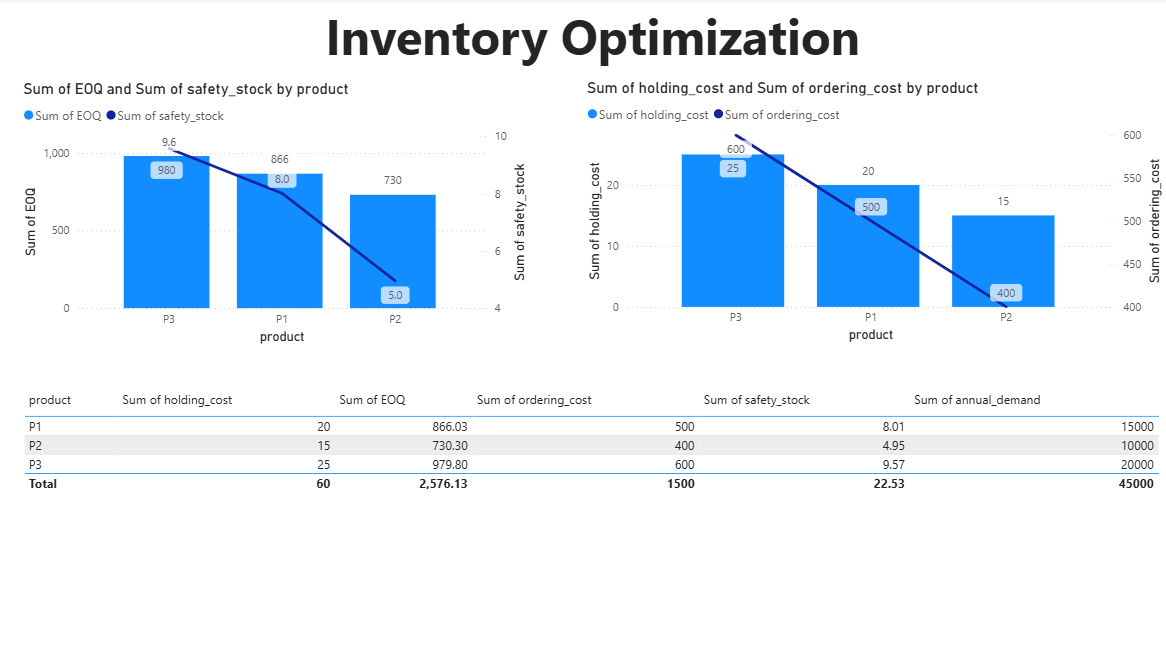

The dashboard page shown, as its layout file describes it:
{"tool":"powerbi","page":{"name":"Page 2","canvas":[1280,720],"ordinal":1},"visuals":[{"type":"textbox","box":[20.6,0,1259.7,87.8],"z":0},{"type":"lineClusteredColumnComboChart","fields":{"Category":["Data (2).product"],"Y":["Sum(Data (7).EOQ)"],"Y2":["Sum(Data (8).safety_stock)"]},"box":[20.6,89.2,562.6,295],"z":1000},{"type":"lineClusteredColumnComboChart","fields":{"Category":["Data (7).product"],"Y":["Sum(Data (7).holding_cost)"],"Y2":["Sum(Data (7).ordering_cost)"]},"box":[639.5,87.8,640.8,295],"z":2000},{"type":"tableEx","fields":{"Values":["Data (7).product","Sum(Data (7).holding_cost)","Sum(Data (7).EOQ)","Sum(Data (7).ordering_cost)","Sum(Data (8).safety_stock)","Sum(Data (7).annual_demand)"]},"box":[20.6,425.4,1259.7,295],"z":3000}]}

Visuals, with their boxes in screenshot pixels (x1, y1, x2, y2), scaled from the page's 1280x720 canvas onto the 1166x653 screenshot:
textbox: l=19, t=0, r=1165, b=80
lineClusteredColumnComboChart - Data (2).product x Sum(Data (7).EOQ): l=19, t=81, r=531, b=348
lineClusteredColumnComboChart - Data (7).product x Sum(Data (7).holding_cost): l=583, t=80, r=1165, b=347
tableEx - Data (7).product x Sum(Data (7).holding_cost): l=19, t=386, r=1165, b=652
